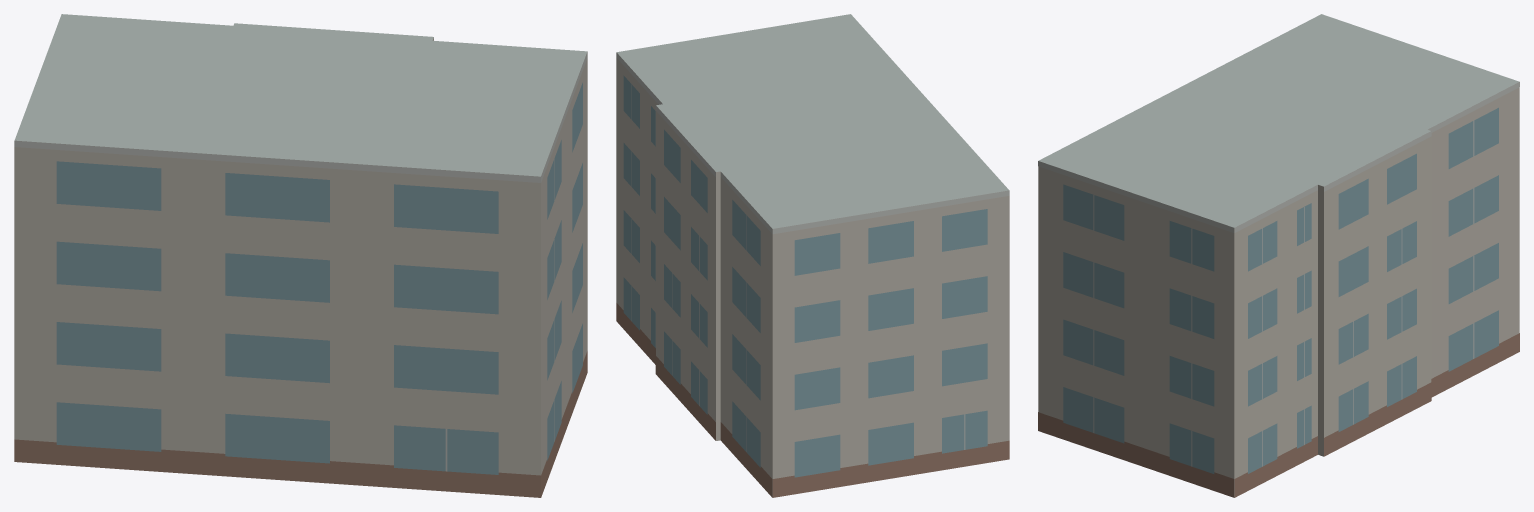
File: survey-upis-33003357.glb
3 views of the same model, side by side, from view 1: azimuth 30°, elevation 25°; view 2: azimuth 150°, elevation 25°; view 3: azimuth 270°, elevation 25° (orthographic). The views are drawn at different scales.
Visible parts, largest first — view 1: survey-upis-33003357.tmp; view 2: survey-upis-33003357.tmp; view 3: survey-upis-33003357.tmp.
Boxes of the visible parts, <box> form: survey-upis-33003357.tmp: <box>14,14,587,497</box>; survey-upis-33003357.tmp: <box>616,14,1009,497</box>; survey-upis-33003357.tmp: <box>1038,14,1519,497</box>.
Bounding box in the file's own units: 20.72 × 12.2 × 19.73.
